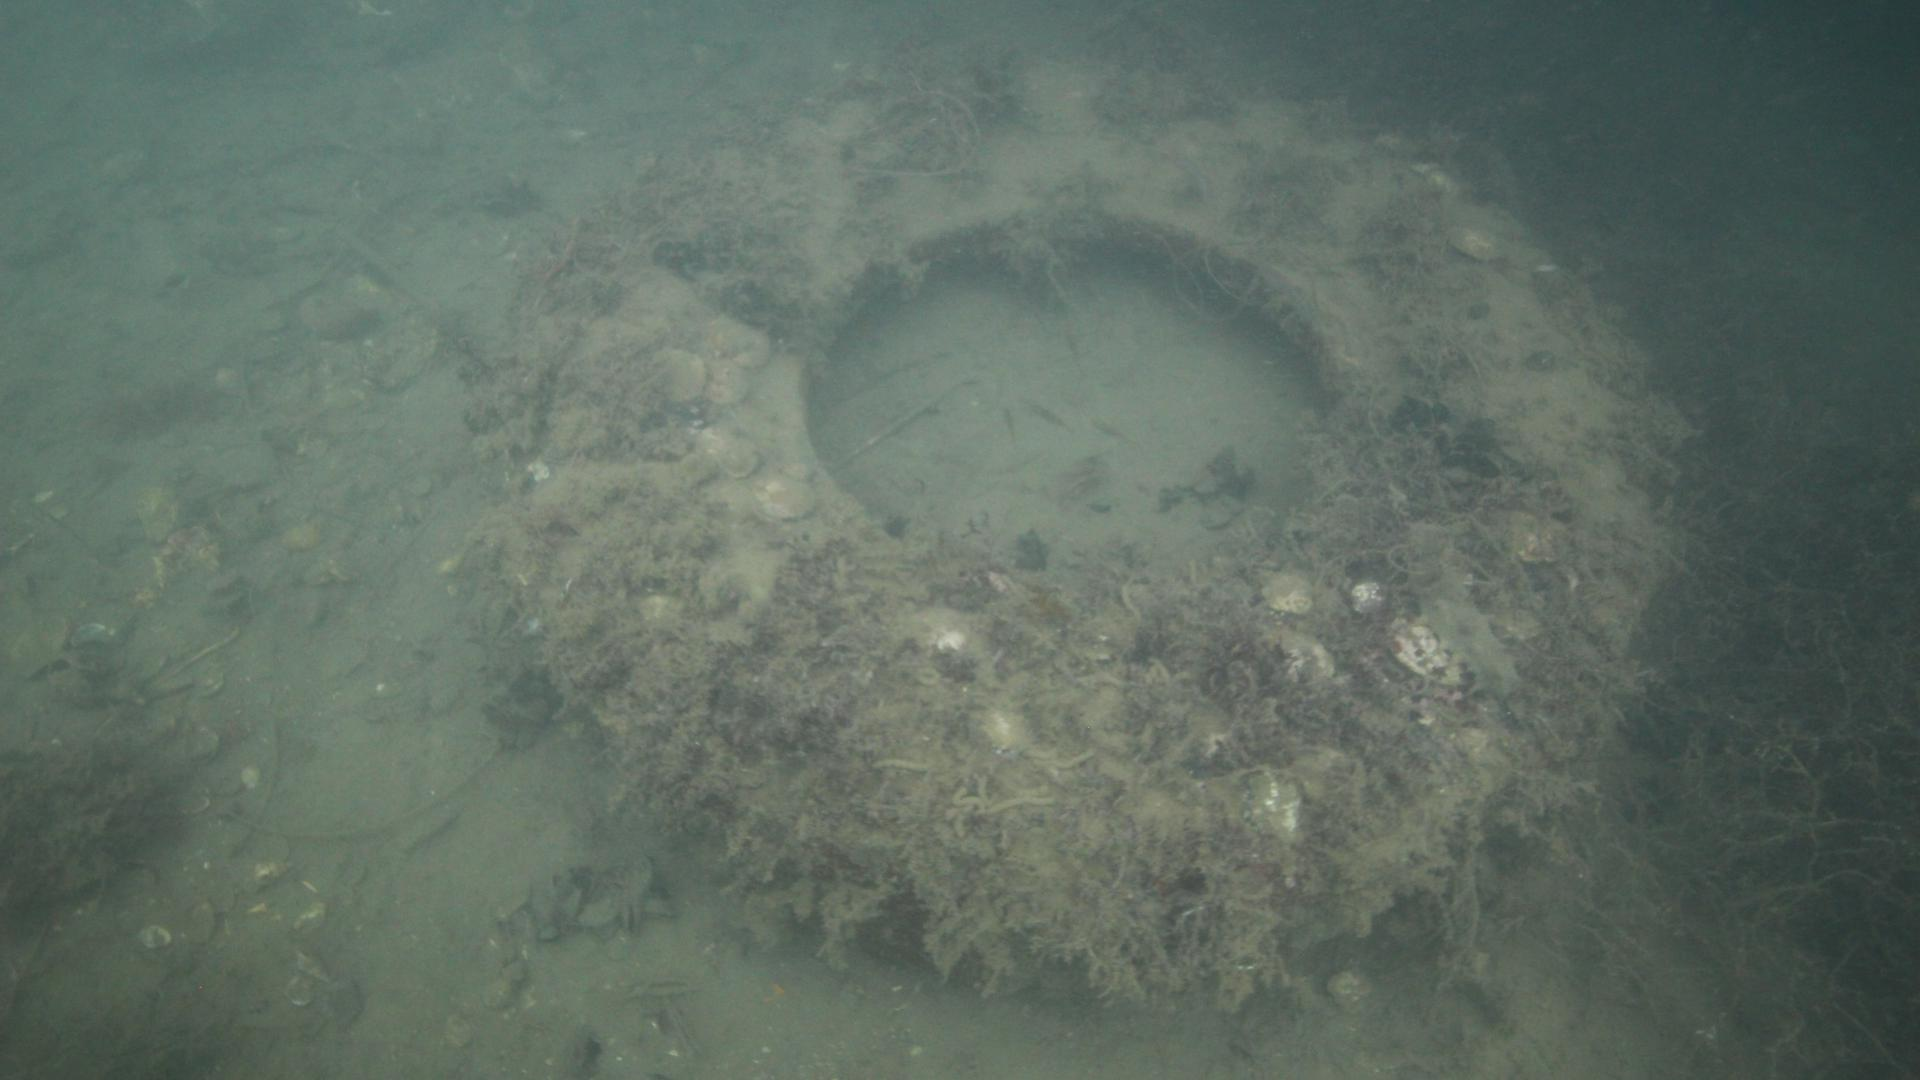tire: (502, 53, 1658, 866)
